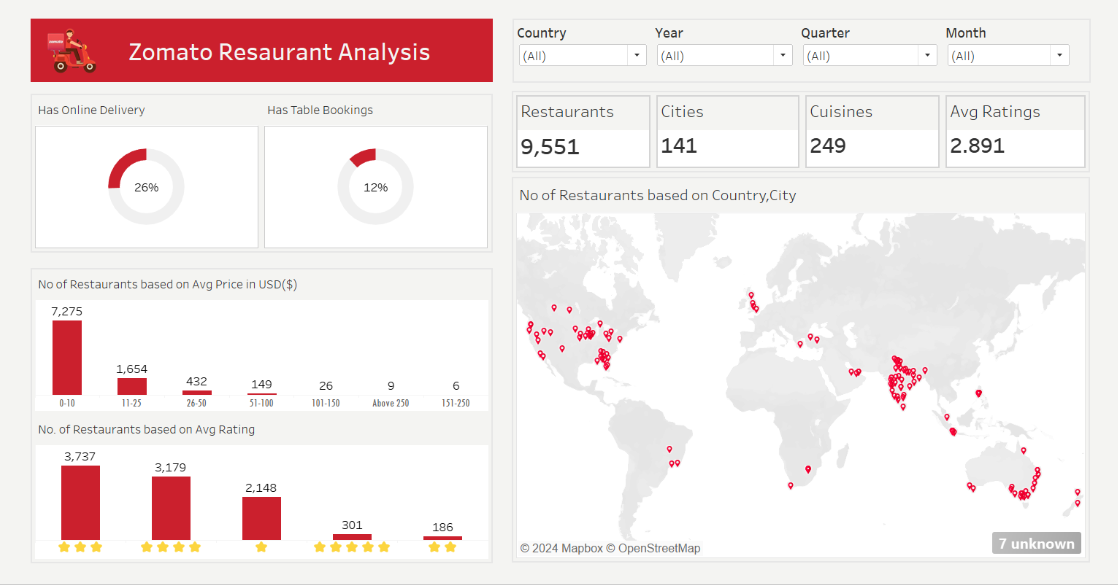

The page's visual inventory and layout, read from the dashboard file:
{"tool":"powerbi","page":{"name":"Overview","canvas":[1920,1166],"ordinal":0},"visuals":[{"type":"shape","box":[964,252.8,935.6,876.5],"z":0},{"type":"textbox","box":[23.6,16.5,1127,80.3],"z":1000},{"type":"shape","box":[1169.5,16.5,733.7,80.1],"z":1000,"group":"g1"},{"type":"card","fields":{"Values":["Metrics.No. of Restaurants"]},"box":[283.5,113.4,250.4,120.5],"z":2000},{"type":"card","fields":{"Values":["Metrics.No. of Cities"]},"box":[557.6,113.4,250.4,120.5],"z":3000},{"type":"card","fields":{"Values":["Metrics.No. of Cuisines"]},"box":[831.6,113.4,250.4,120.5],"z":4000},{"type":"card","fields":{"Values":["Metrics.Avg Ratings"]},"box":[1103.3,113.4,250.4,120.5],"z":5000},{"type":"map","fields":{"Category":["Country Table.Country","Main.City"],"Size":["Metrics.No. of Restaurants"]},"box":[982.2,281.6,906.5,826],"z":6000},{"type":"columnChart","title":"No. of Restaurants by Ratings","fields":{"Category":["Main.Rating Bucket"],"Y":["Metrics.No. of Restaurants"]},"box":[283.5,252.8,656.8,427.6],"z":7000},{"type":"barChart","title":"No. of Restaurants by average cost in USD($)","fields":{"Category":["Main.Bucketed Average Cost"],"Y":["Metrics.No. of Restaurants"]},"box":[284,700.6,658,428.4],"z":8000},{"type":"card","fields":{"Values":["Metrics.% Restaurants with Online Delivery"]},"box":[1377.4,113.4,250.4,120.5],"z":9000},{"type":"slicer","fields":{"Values":["Dim_Date.Year"]},"box":[1181.3,24.5,170.4,64.1],"z":10000,"group":"g1"},{"type":"card","fields":{"Values":["Metrics.% Restaurants with Table Booking"]},"box":[1651.5,113.4,250.4,120.5],"z":10000},{"type":"slicer","fields":{"Values":["Dim_Date.Quarter"]},"box":[1361.2,24.5,170.4,64.1],"z":11000,"group":"g1"},{"type":"pageNavigator","box":[23.6,120.5,238.6,1025.4],"z":11000},{"type":"image","box":[0,7.1,158.3,106.3],"z":12000},{"type":"slicer","fields":{"Values":["Dim_Date.MonthName"]},"box":[1541.1,24.5,170.4,64.1],"z":12000,"group":"g1"},{"type":"group","id":"g1","title":"Group 1","box":[1169.5,16.5,732.4,80],"z":13000},{"type":"slicer","fields":{"Values":["Country Table.Country"]},"box":[1721,24.5,170.4,64.1],"z":13000,"group":"g1"},{"type":"image","box":[451.3,120.5,85.1,111],"z":14000},{"type":"image","box":[727.7,113.4,80.3,120.5],"z":15000},{"type":"image","box":[1006.5,120.5,75.6,113.4],"z":16000},{"type":"image","box":[1285.3,115.8,66.2,125.2],"z":17000},{"type":"image","box":[1835.8,115.8,73.2,118.1],"z":18000},{"type":"image","box":[1566.4,115.8,70.9,120.5],"z":19000}]}

Visuals, with their boxes on the page's 1920x1166 design canvas (x1, y1, x2, y2). These are canvas units, not pixel positions in the 1118x585 screenshot, which may show the page scaled, cropped or inside an application window:
shape: crop(964, 253, 1900, 1129)
textbox: crop(24, 16, 1151, 97)
shape: crop(1170, 16, 1903, 97)
card - Metrics.No. of Restaurants: crop(284, 113, 534, 234)
card - Metrics.No. of Cities: crop(558, 113, 808, 234)
card - Metrics.No. of Cuisines: crop(832, 113, 1082, 234)
card - Metrics.Avg Ratings: crop(1103, 113, 1354, 234)
map - Country Table.Country x Main.City: crop(982, 282, 1889, 1108)
"No. of Restaurants by Ratings" columnChart: crop(284, 253, 940, 680)
"No. of Restaurants by average cost in USD($)" barChart: crop(284, 701, 942, 1129)
card - Metrics.% Restaurants with Online Delivery: crop(1377, 113, 1628, 234)
slicer - Dim_Date.Year: crop(1181, 24, 1352, 89)
card - Metrics.% Restaurants with Table Booking: crop(1652, 113, 1902, 234)
slicer - Dim_Date.Quarter: crop(1361, 24, 1532, 89)
pageNavigator: crop(24, 120, 262, 1146)
image: crop(0, 7, 158, 113)
slicer - Dim_Date.MonthName: crop(1541, 24, 1712, 89)
"Group 1" group: crop(1170, 16, 1902, 96)
slicer - Country Table.Country: crop(1721, 24, 1891, 89)
image: crop(451, 120, 536, 232)
image: crop(728, 113, 808, 234)
image: crop(1006, 120, 1082, 234)
image: crop(1285, 116, 1352, 241)
image: crop(1836, 116, 1909, 234)
image: crop(1566, 116, 1637, 236)
